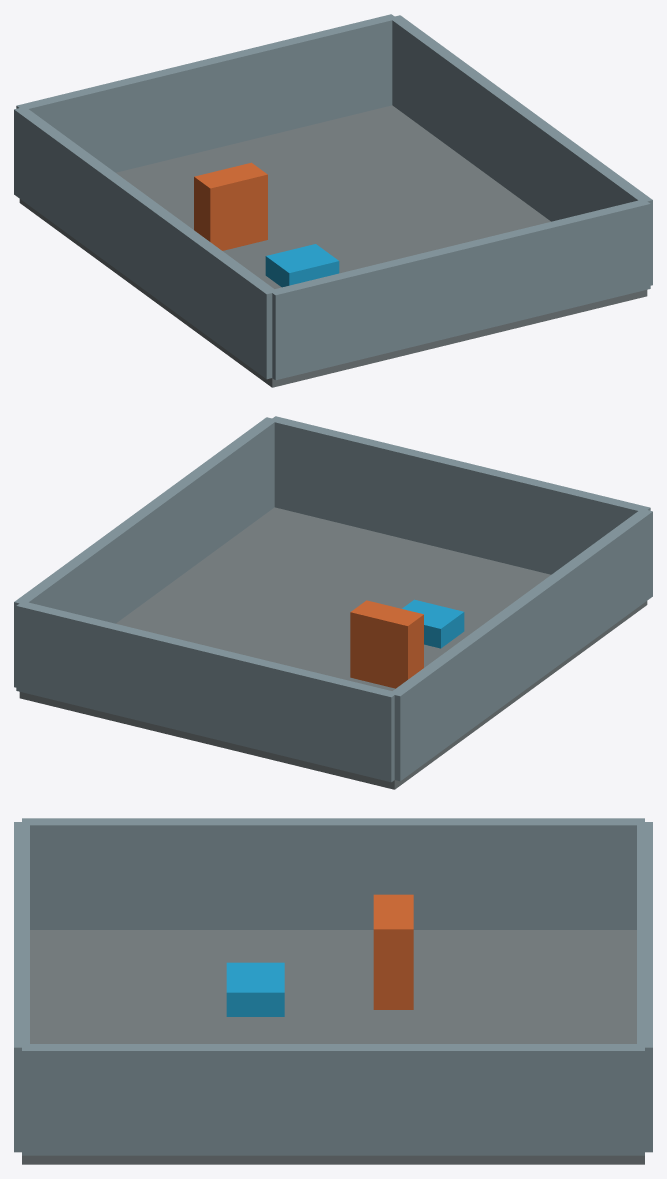
File: range.glb
The picture shows the model from 3 angles, top to bottom: view 1: azimuth 30°, elevation 25°; view 2: azimuth 150°, elevation 25°; view 3: azimuth 270°, elevation 25°; orthographic projection. The views are drawn at different scales.
Parts seen in each view (by area): view 1: Solid_Floor, Solid_Front, Solid_Back, Solid_Left, Solid_Right, Solid_Cover, Solid_Step; view 2: Solid_Floor, Solid_Back, Solid_Front, Solid_Left, Solid_Right, Solid_Cover, Solid_Step; view 3: Solid_Right, Solid_Floor, Solid_Left, Solid_Cover, Solid_Back, Solid_Front, Solid_Step.
Boxes of the visible parts, bbox=[...] form: Solid_Floor: bbox=[19, 105, 647, 387]; Solid_Front: bbox=[269, 199, 650, 380]; Solid_Back: bbox=[16, 14, 397, 172]; Solid_Left: bbox=[14, 107, 274, 379]; Solid_Right: bbox=[390, 15, 652, 285]; Solid_Cover: bbox=[194, 162, 267, 250]; Solid_Step: bbox=[265, 244, 339, 287]; Solid_Floor: bbox=[19, 507, 647, 789]; Solid_Back: bbox=[16, 601, 397, 782]; Solid_Front: bbox=[269, 416, 650, 574]; Solid_Left: bbox=[392, 509, 652, 781]; Solid_Right: bbox=[14, 417, 277, 687]; Solid_Cover: bbox=[350, 600, 423, 688]; Solid_Step: bbox=[402, 599, 464, 648]; Solid_Right: bbox=[22, 1044, 644, 1155]; Solid_Floor: bbox=[22, 930, 644, 1164]; Solid_Left: bbox=[22, 818, 644, 929]; Solid_Cover: bbox=[373, 894, 413, 1009]; Solid_Back: bbox=[637, 822, 652, 1152]; Solid_Front: bbox=[14, 822, 29, 1152]; Solid_Step: bbox=[226, 962, 284, 1016].
Bounding box in the file's own units: 12.36 × 2.9 × 14.36.
